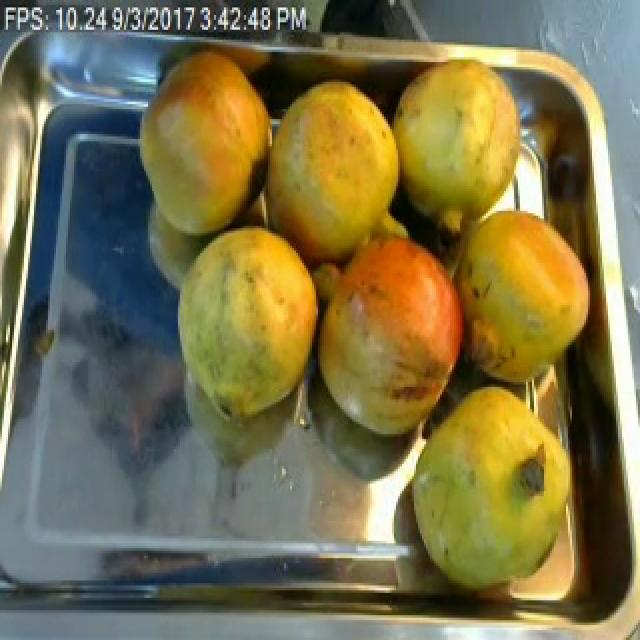fruit: (400, 367, 584, 608), (308, 216, 476, 451), (166, 208, 330, 434), (438, 188, 606, 404), (258, 72, 414, 278), (130, 42, 282, 243), (384, 50, 542, 243)
